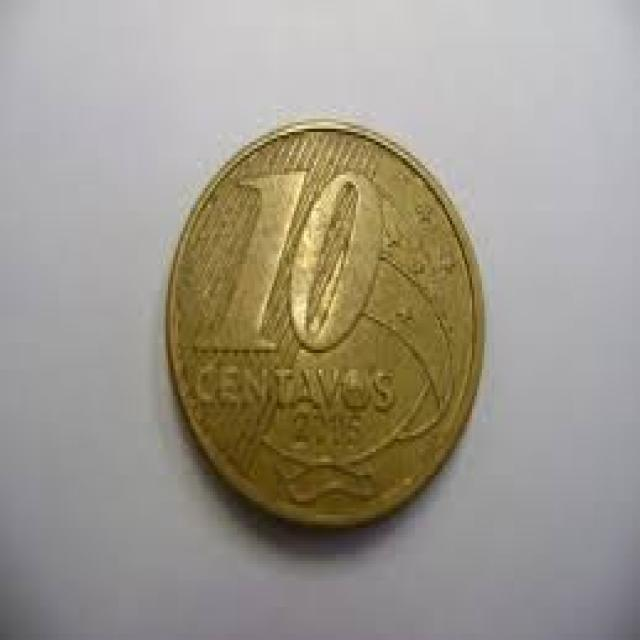10 cent: (169, 119, 480, 515)
